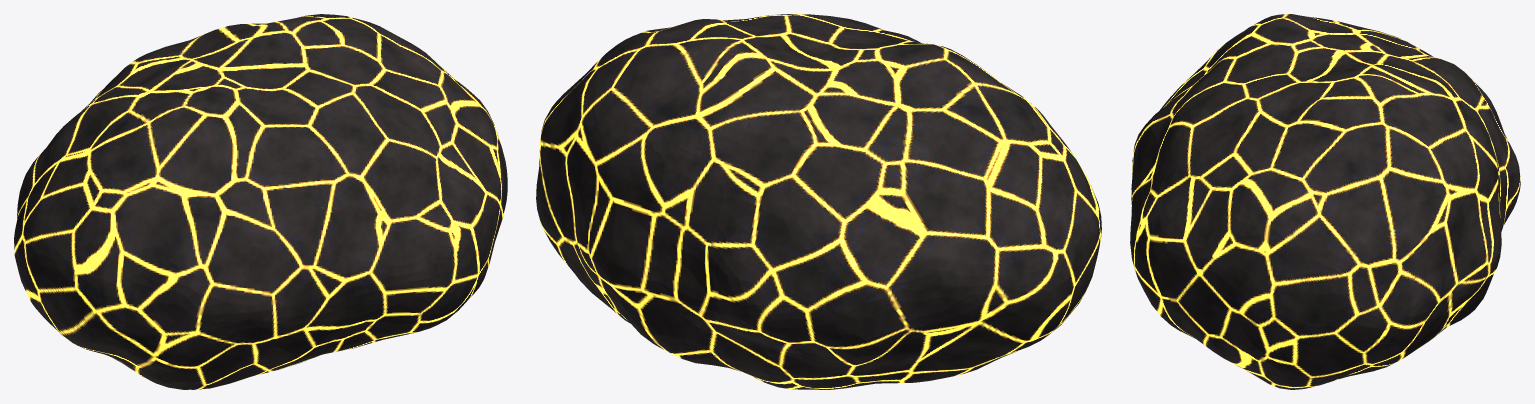
File: escoria_basalto_brasa_a.glb
The picture shows the model from 3 angles, left to right: view 1: azimuth 30°, elevation 25°; view 2: azimuth 150°, elevation 25°; view 3: azimuth 270°, elevation 25°; orthographic projection. The views are drawn at different scales.
Parts seen in each view (by area): view 1: escoria_basalto_brasa_a_tronco; view 2: escoria_basalto_brasa_a_tronco; view 3: escoria_basalto_brasa_a_tronco.
Boxes of the visible parts, left/top/right/bottom form: escoria_basalto_brasa_a_tronco: left=14, top=14, right=507, bottom=389; escoria_basalto_brasa_a_tronco: left=536, top=14, right=1101, bottom=389; escoria_basalto_brasa_a_tronco: left=1130, top=14, right=1520, bottom=389.
Bounding box in the file's own units: 2.81 × 1.69 × 2.16.
Materials: 1 (1 with a texture image).
